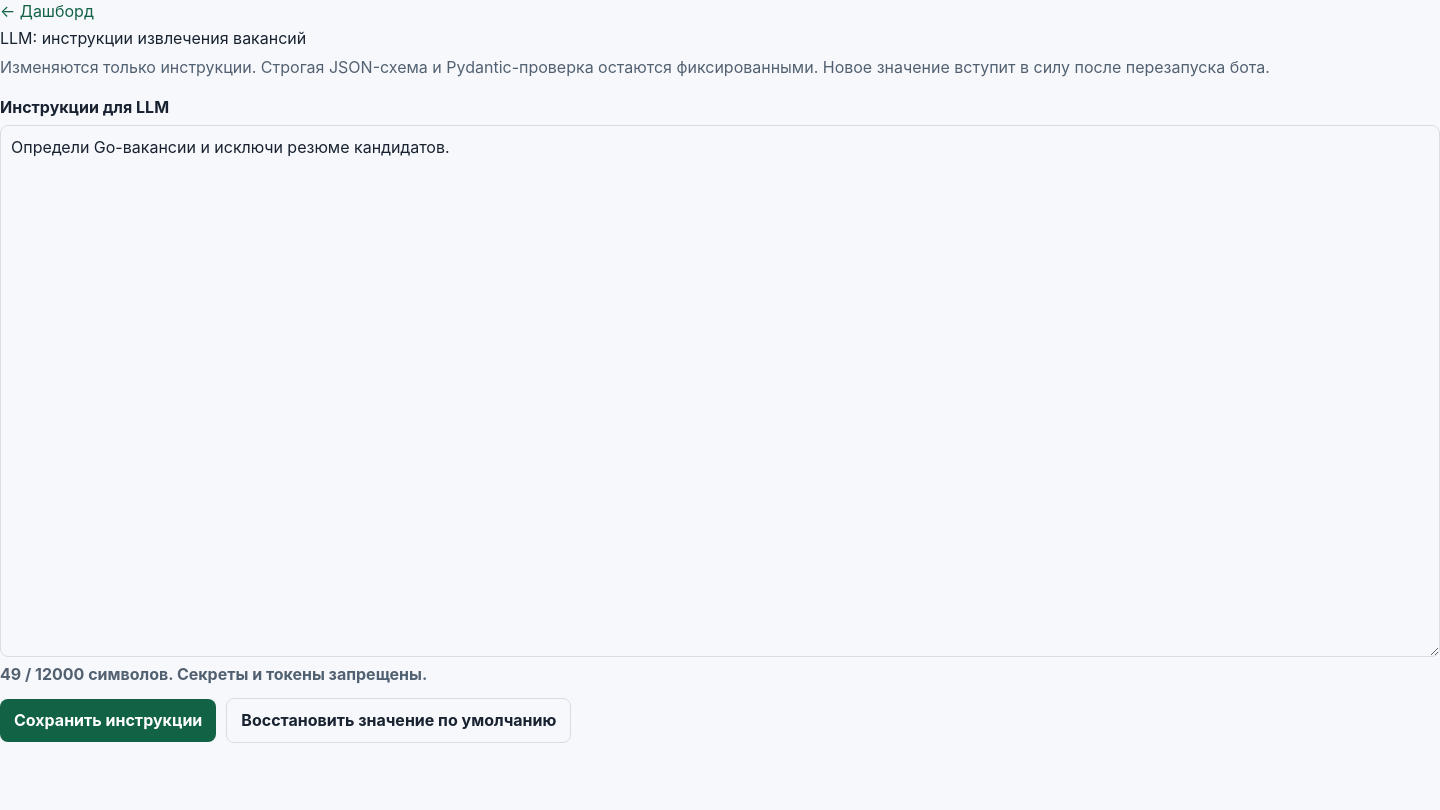
Test: admin feature components › saves and confirms reset of LLM instructions
Replace the text in the text box labelled "Инструкции для LLM" with "Новое безопасное значение инструкций для распознавания Go-вакансий." at (720, 391), box [0,125,1439,657]
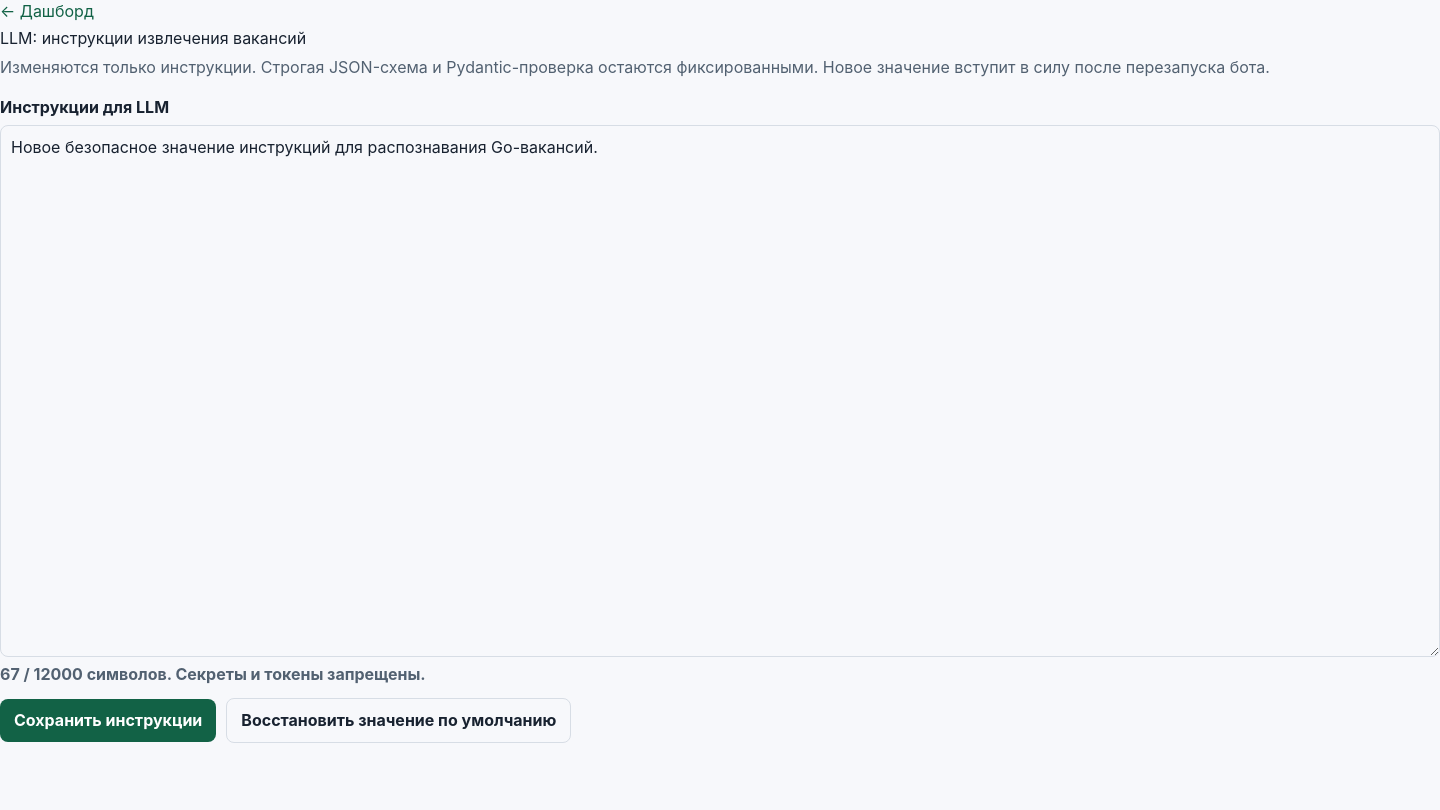
Click the button "Сохранить инструкции" at (108, 721), box [0,699,216,742]
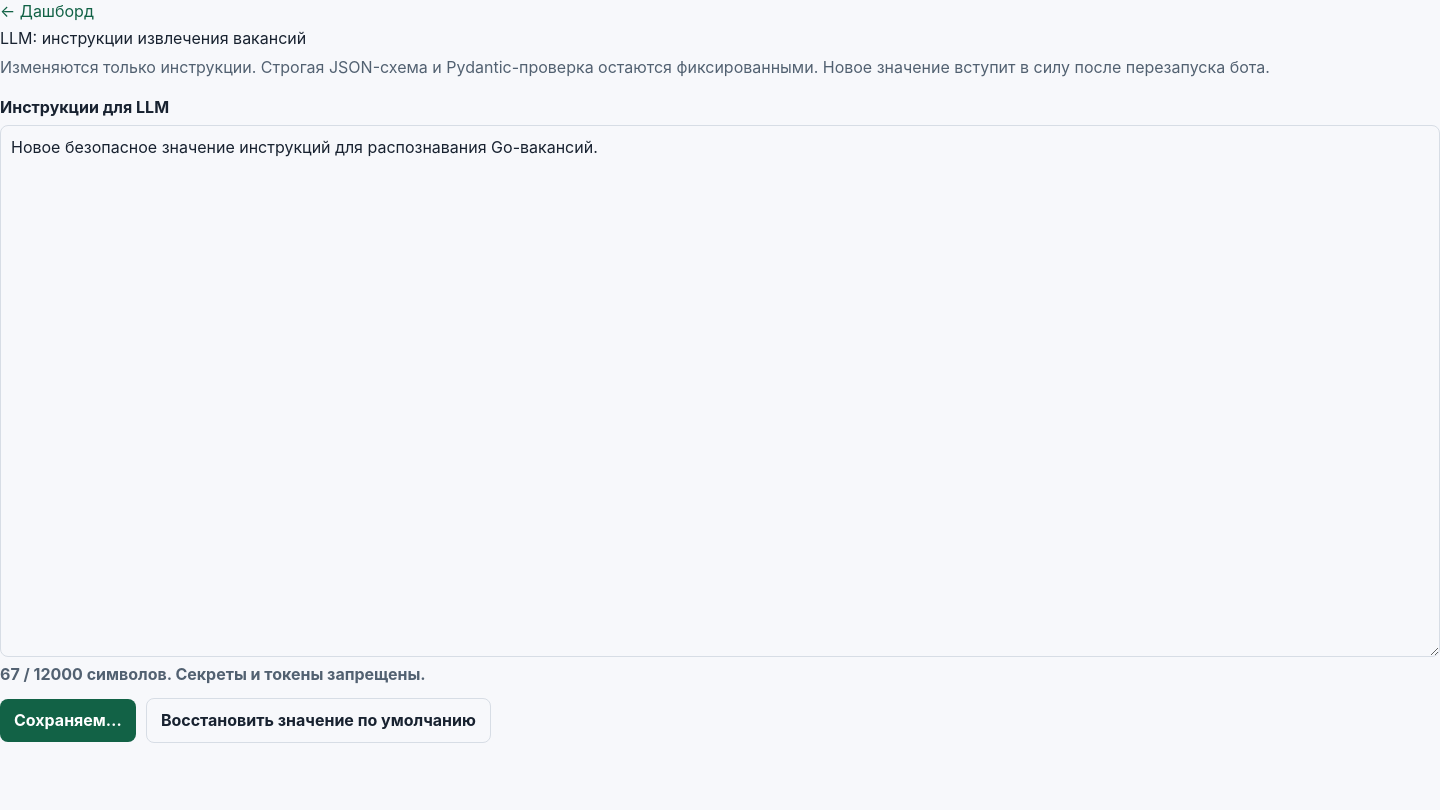
Click the button "Восстановить значение по умолчанию" at (318, 721), box [146,698,491,743]
(page scrolled)
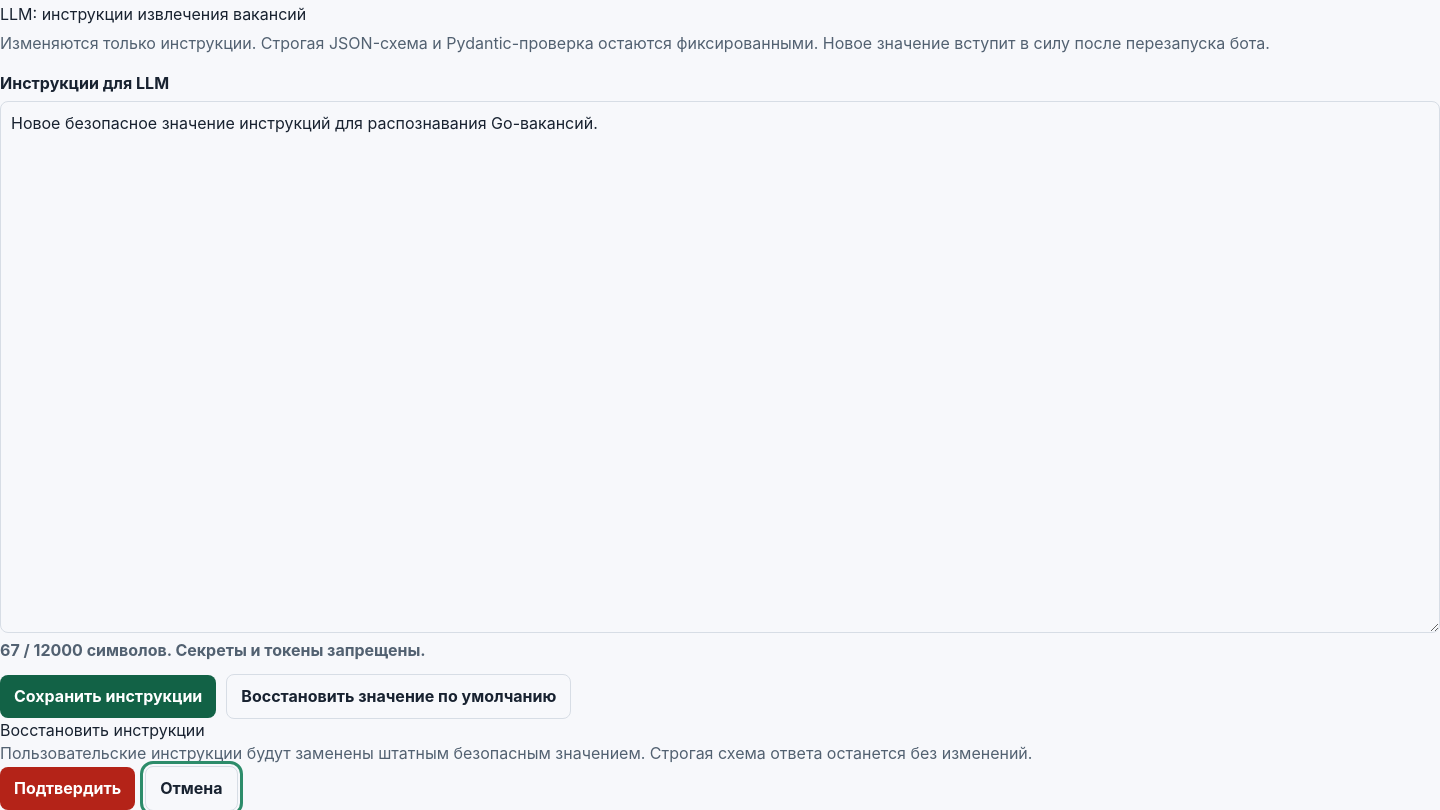
Expected: the dialog is shown, [0,720,1032,809]
